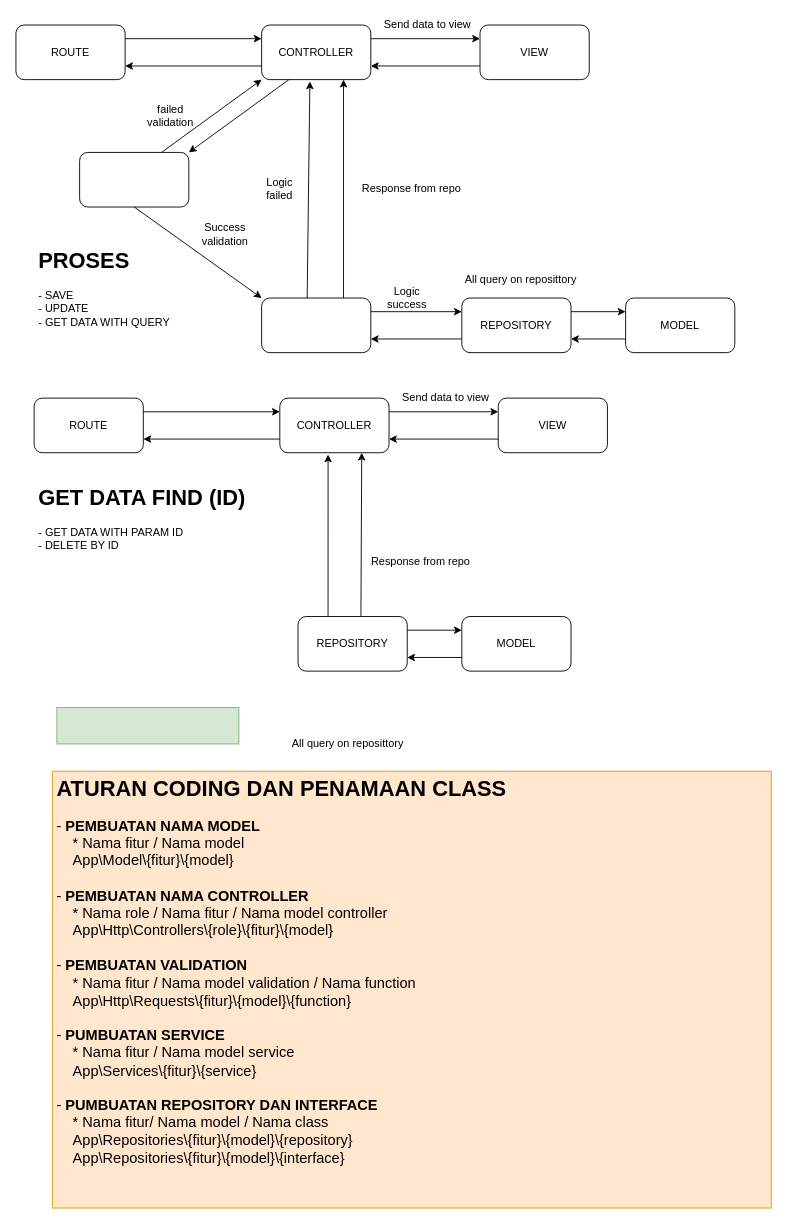
Image size: 787x1224. Some labels were removed from this diagram. The box of each missing label's shape, as (x1, y1, x2, y2) in pixels:
SERVICE BISNIS LOGIC: (261, 297, 371, 353)
SILAHKAN TAMBAHKAN ATURAN TAPI JANGAN HAPUS: (56, 707, 239, 744)
VALIDATION: (79, 152, 189, 207)
